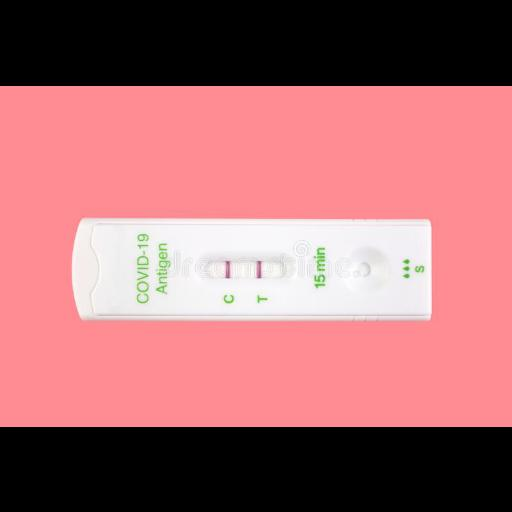Pos: (80, 216, 430, 318)
